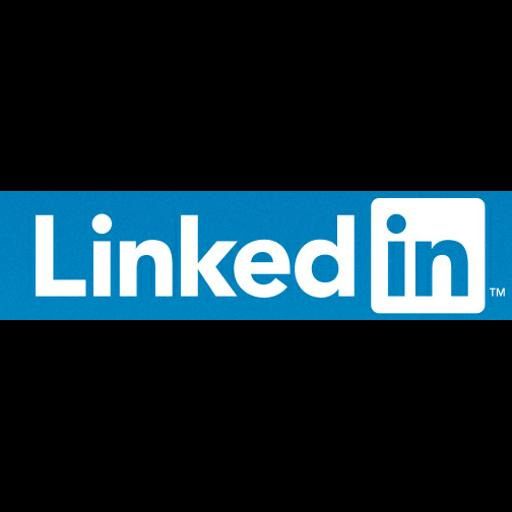LinkedIn Corporation: (0, 191, 512, 320)
